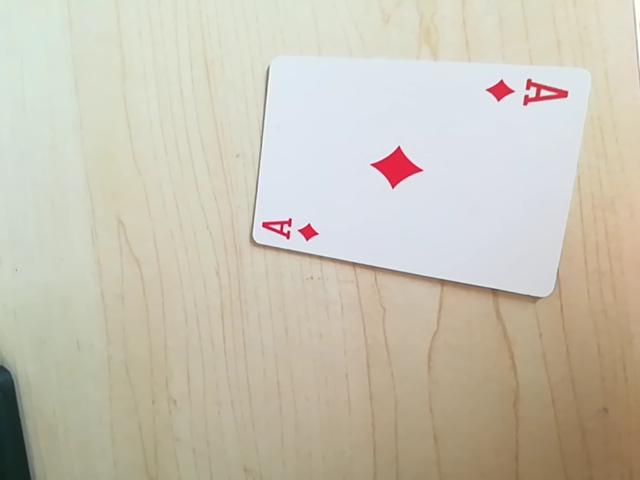fk a: (484, 73, 571, 113), (257, 213, 325, 247)
